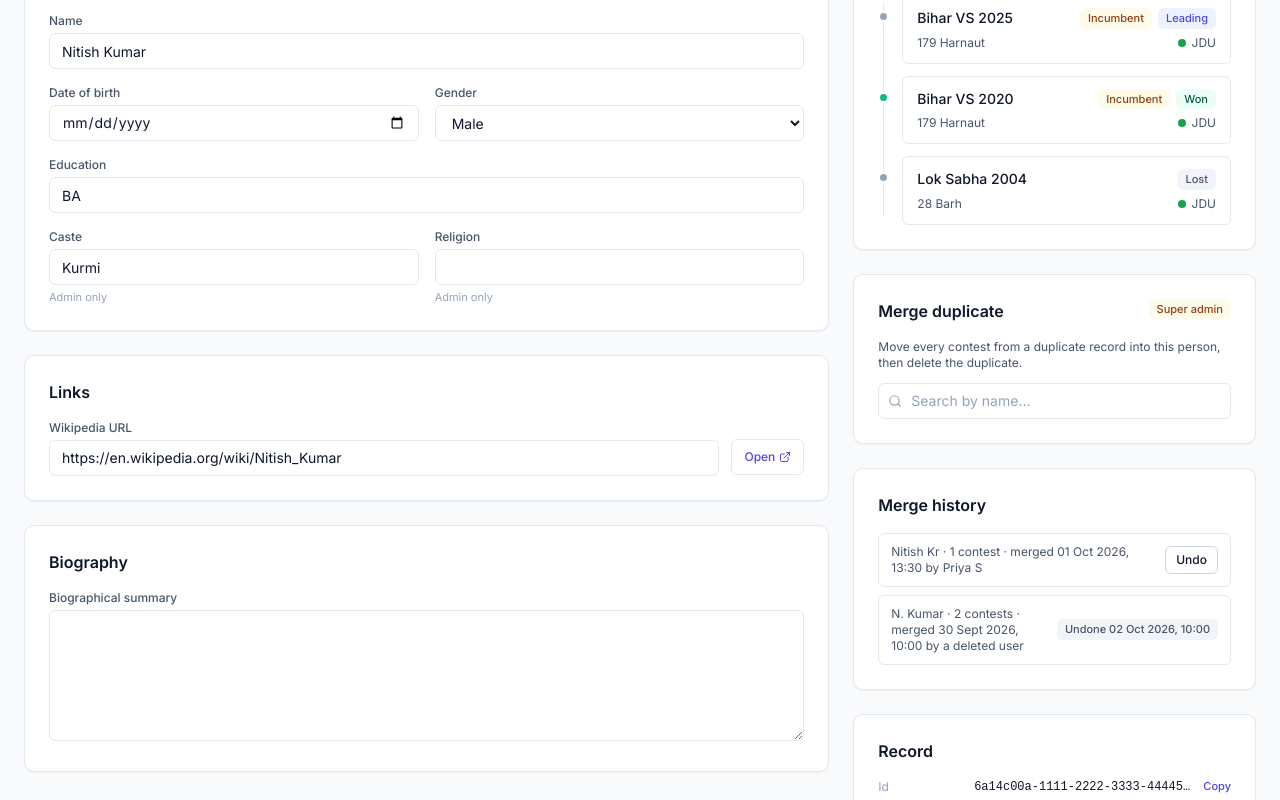
Test case: Merge duplicate › is disabled while the form has unsaved edits (a merge reloads the record)
(page scrolled)
In the search field named "Search duplicates": (1055, 400) [878,382,1231,418], type "Nitish"
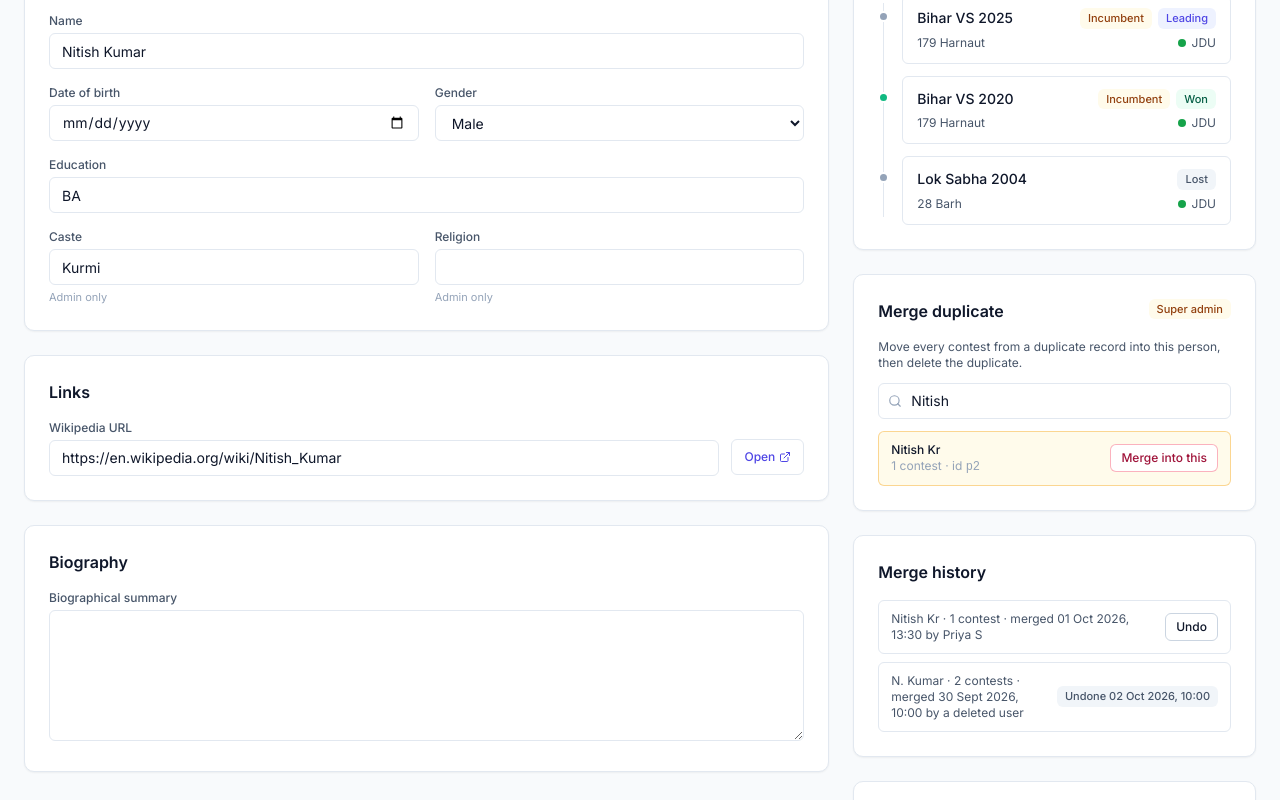
In the text box labelled "Biographical summary": (427, 675) [49,610,804,741], type "New bio"
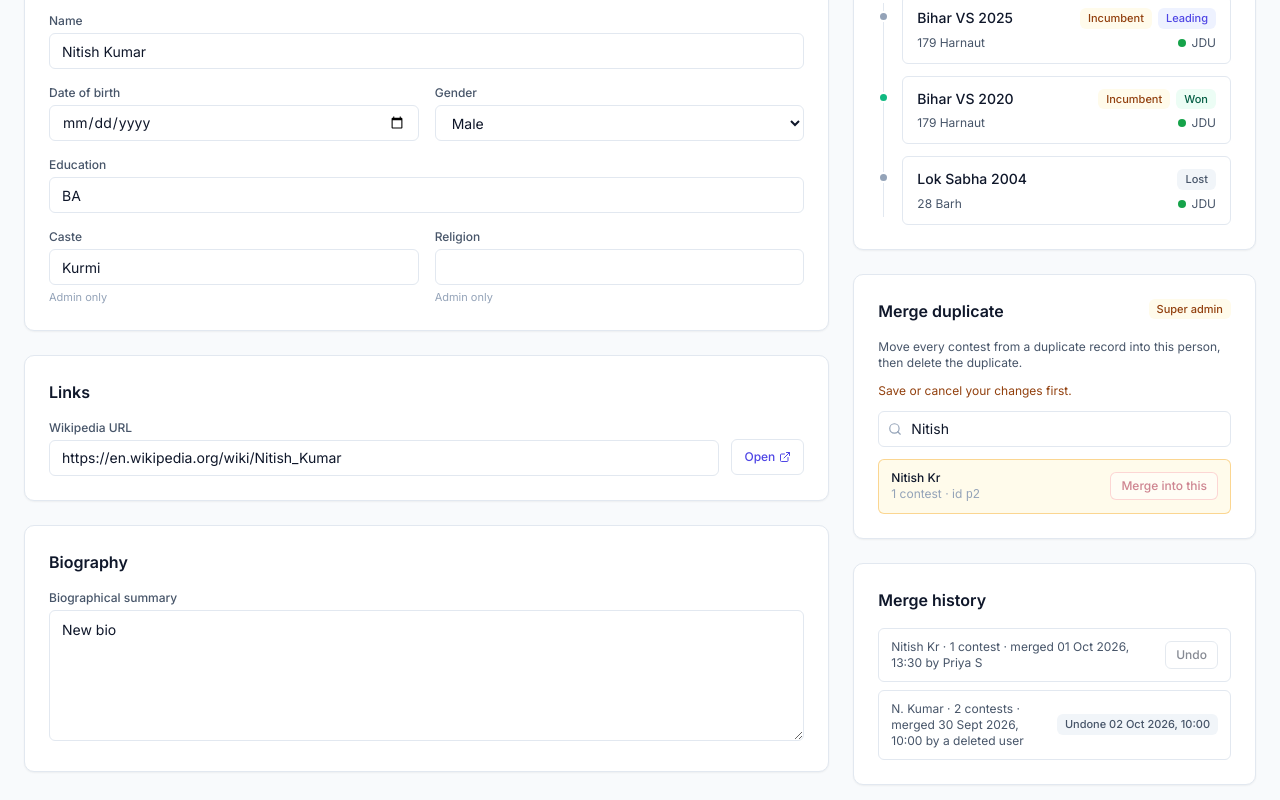
Now the text "Save or cancel your changes first." is shown, box [878,382,1072,398]
